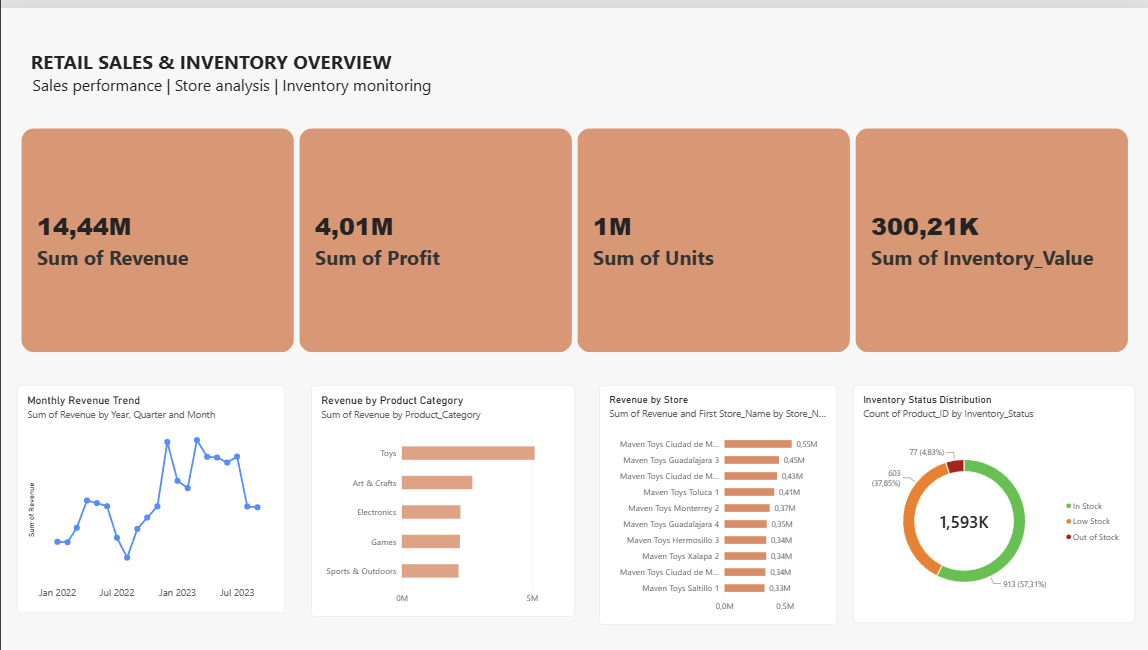

What the dashboard file says about the page in this screenshot:
{"tool":"powerbi","page":{"name":"Retail Sales & Inventory Dashboard","canvas":[1920,1080],"ordinal":0},"visuals":[{"type":"cardVisual","fields":{"Data":["Sum(vw_SalesSummary.Revenue)","Sum(vw_SalesSummary.Profit)","Sum(vw_SalesSummary.Units)","Sum(vw_InventoryStatus.Inventory_Value)"]},"box":[23.4,190.7,1873.2,394.7],"z":0},{"type":"lineChart","title":"Monthly Revenue Trend","fields":{"Category":["vw_SalesSummary.Date.Variation.Date Hierarchy.Year","vw_SalesSummary.Date.Variation.Date Hierarchy.Quarter","vw_SalesSummary.Date.Variation.Date Hierarchy.Month","vw_SalesSummary.Date.Variation.Date Hierarchy.Day"],"Y":["Sum(vw_SalesSummary.Revenue)"]},"box":[26.8,628.9,448.2,381.3],"z":1000},{"type":"clusteredBarChart","title":"Revenue by Product Category","fields":{"Category":["vw_SalesSummary.Product_Category"],"Y":["Sum(vw_SalesSummary.Revenue)"]},"box":[518.5,628.9,441.5,388],"z":2000},{"type":"clusteredBarChart","title":"Revenue by Store","fields":{"Category":["vw_SalesSummary.Store_Name"],"Y":["Sum(vw_SalesSummary.Revenue)"]},"box":[1000.1,628.9,398,401.4],"z":3000},{"type":"donutChart","title":"Inventory Status Distribution","fields":{"Category":["vw_InventoryStatus.Inventory_Status"],"Y":["CountNonNull(vw_InventoryStatus.Product_ID)"]},"box":[1424.9,628.9,471.6,398],"z":4000},{"type":"textbox","box":[23.4,66.9,899.8,107],"z":5000}]}

Visuals, with their boxes in screenshot pixels (x1, y1, x2, y2), scaled from the page's 1920x1080 canvas onto the 1148x650 screenshot:
cardVisual - Sum(vw_SalesSummary.Revenue) x Sum(vw_SalesSummary.Profit): [left=14, top=115, right=1134, bottom=352]
"Monthly Revenue Trend" lineChart: [left=16, top=379, right=284, bottom=608]
"Revenue by Product Category" clusteredBarChart: [left=310, top=379, right=574, bottom=612]
"Revenue by Store" clusteredBarChart: [left=598, top=379, right=836, bottom=620]
"Inventory Status Distribution" donutChart: [left=852, top=379, right=1134, bottom=618]
textbox: [left=14, top=40, right=552, bottom=105]
